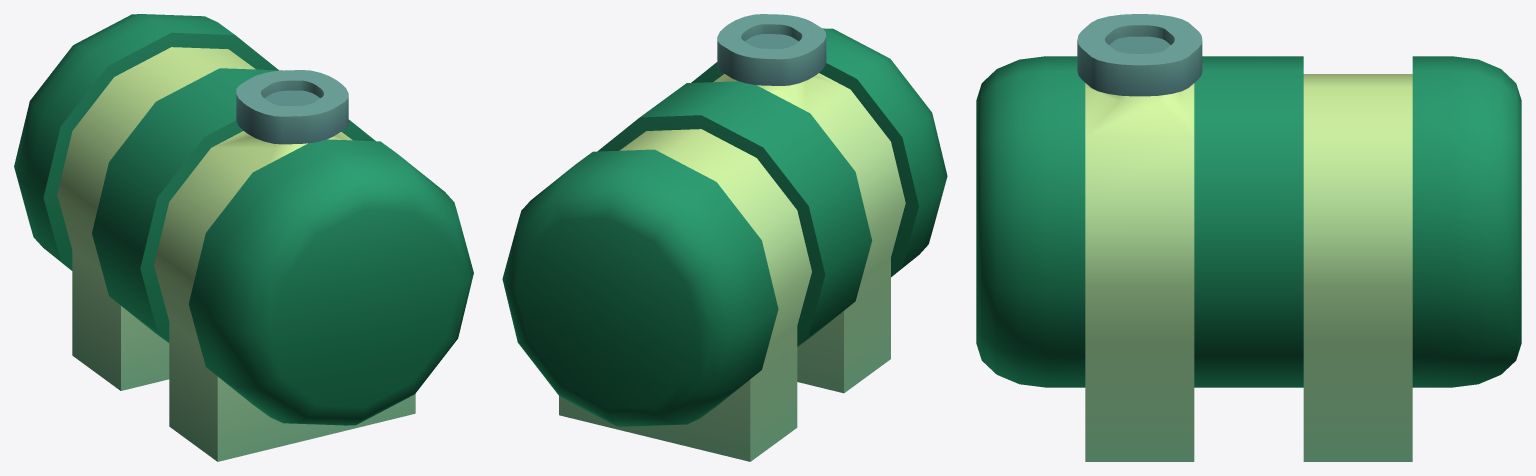
File: WaterDepot.fbx
3 renders of one model, left to right at view 1: azimuth 30°, elevation 25°; view 2: azimuth 150°, elevation 25°; view 3: azimuth 270°, elevation 25°, orthographic. The views are drawn at different scales.
Visible parts, largest first — view 1: WaterDepot; view 2: WaterDepot; view 3: WaterDepot.
Part boxes in pixels (<box>): WaterDepot: <box>14,14,473,461</box>; WaterDepot: <box>502,14,947,461</box>; WaterDepot: <box>976,14,1521,461</box>.
Size of the model in its own units: 1.08 by 1.32 by 1.77.
